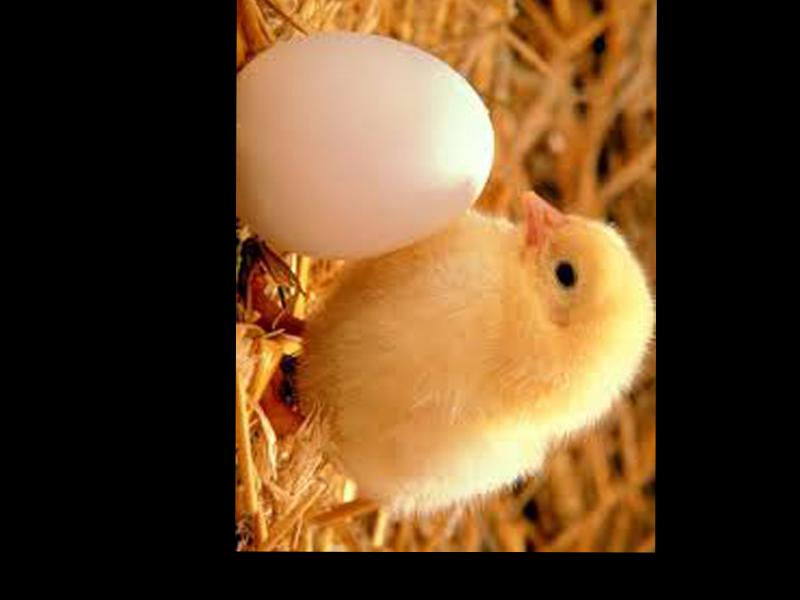Eggs: (235, 32, 496, 260)
